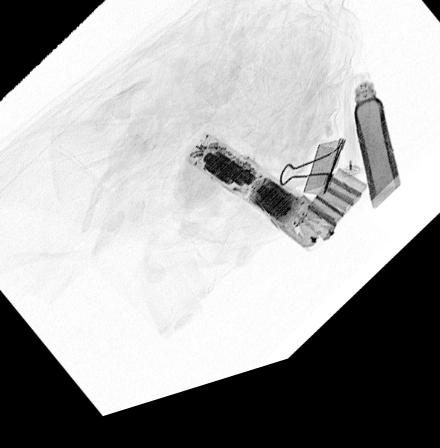Baton: (185, 144, 335, 271)
